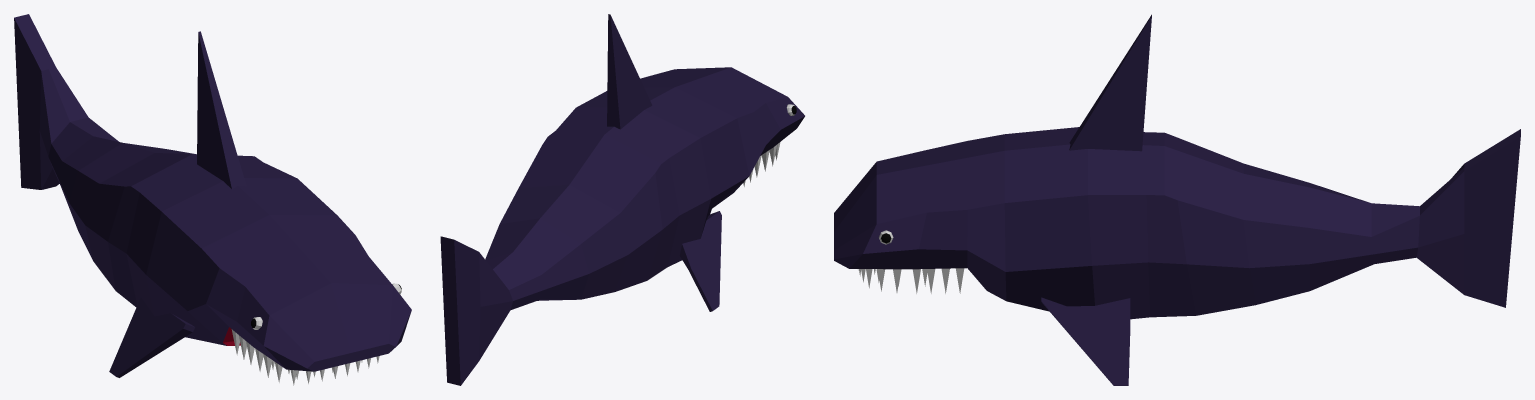
The model's file is Shark Body.fbx.
3 renders of one model, left to right at view 1: azimuth 30°, elevation 25°; view 2: azimuth 150°, elevation 25°; view 3: azimuth 270°, elevation 25°, orthographic. The views are drawn at different scales.
Visible parts, largest first — view 1: Shark Body; view 2: Shark Body; view 3: Shark Body.
Part boxes in pixels (x1=…): Shark Body: x1=14, y1=14, x2=411, y2=385; Shark Body: x1=440, y1=14, x2=804, y2=385; Shark Body: x1=834, y1=14, x2=1520, y2=385.
Size of the model in its own units: 3.29 by 4.78 by 9.26.
